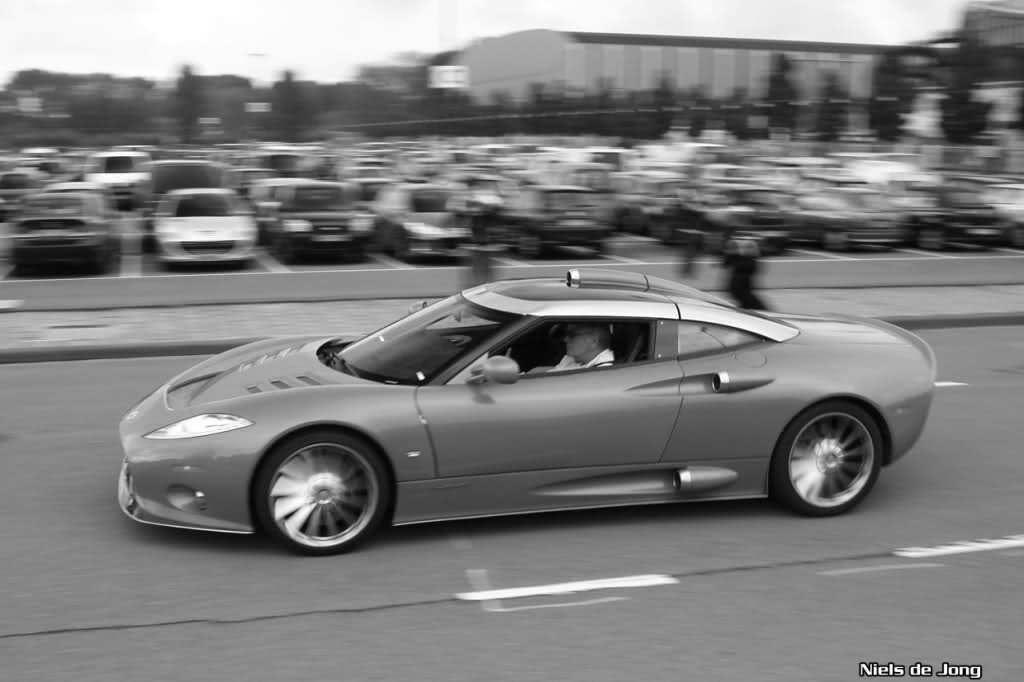car: (109, 277, 945, 557)
